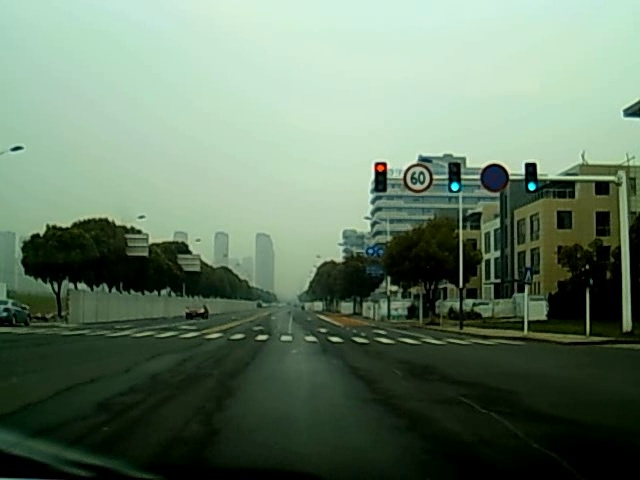Traffic_Light_go: (448, 163, 464, 196), (523, 164, 536, 195)
Traffic_Light_stop: (374, 162, 385, 194)
